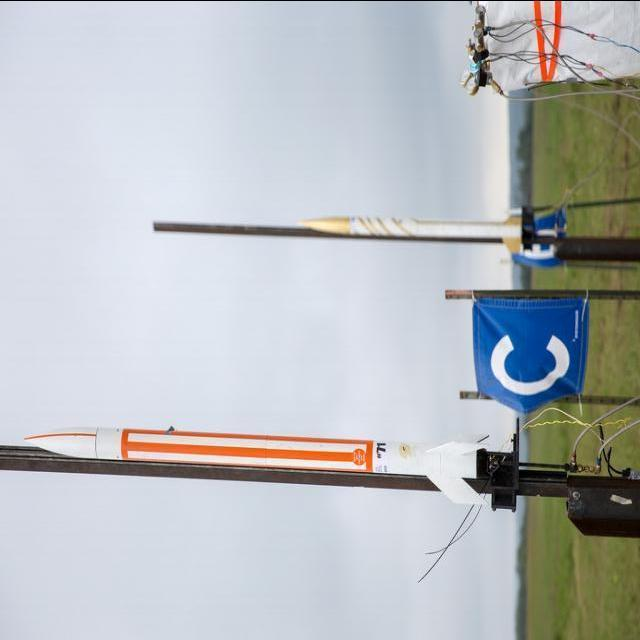missile: (4, 416, 517, 524)
